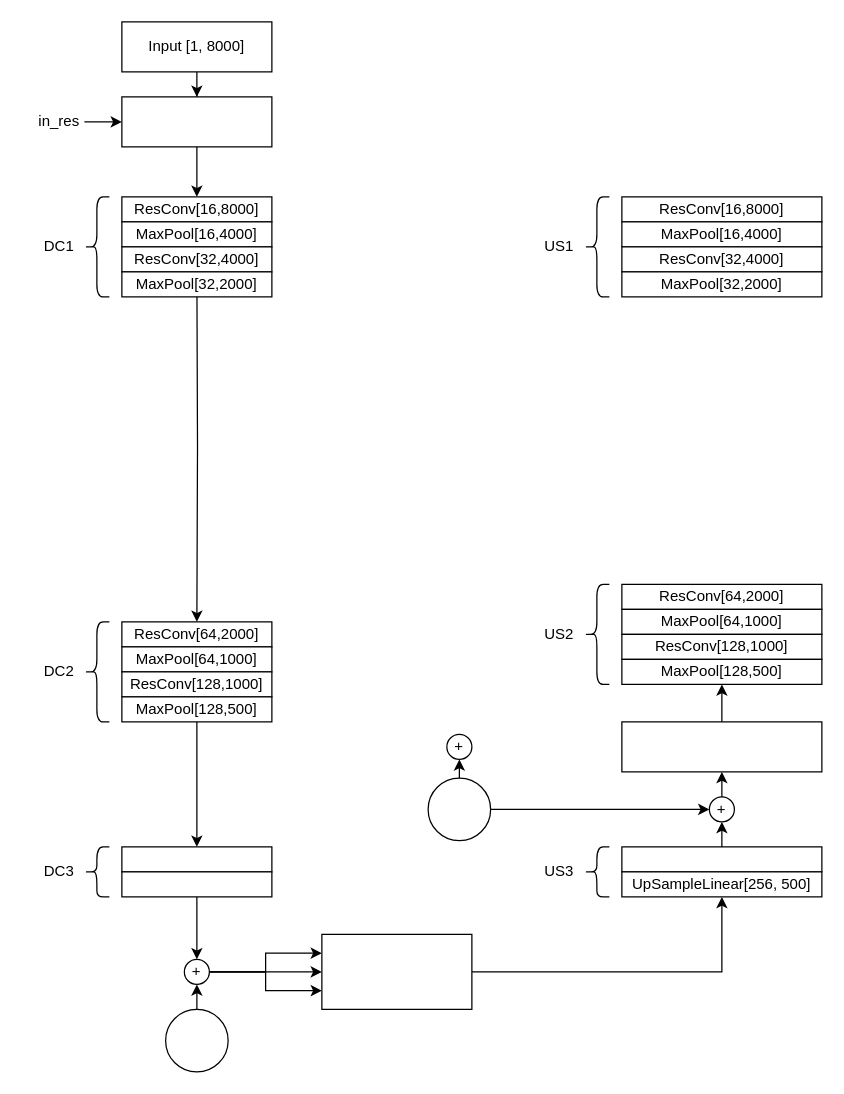
Image size: 844x1094. Some labels were removed from this diagram. The box of each missing label's shape, as (x1, y1, x2, y2) in pixels:
4-Head SelfAttention [256,250]: (321, 933, 472, 1009)
50-Window 4-Head CrossAttention [128,500]: (621, 721, 822, 772)
Learned 250-PE: (164, 1008, 228, 1072)
Learned 500-PE: (427, 777, 491, 841)
MaxPool[256,250]: (121, 871, 272, 897)
ResConv [4, 8000]: (121, 96, 272, 147)
ResConv[128,500]: (621, 846, 822, 872)
ResConv[256,500]: (121, 846, 272, 872)
